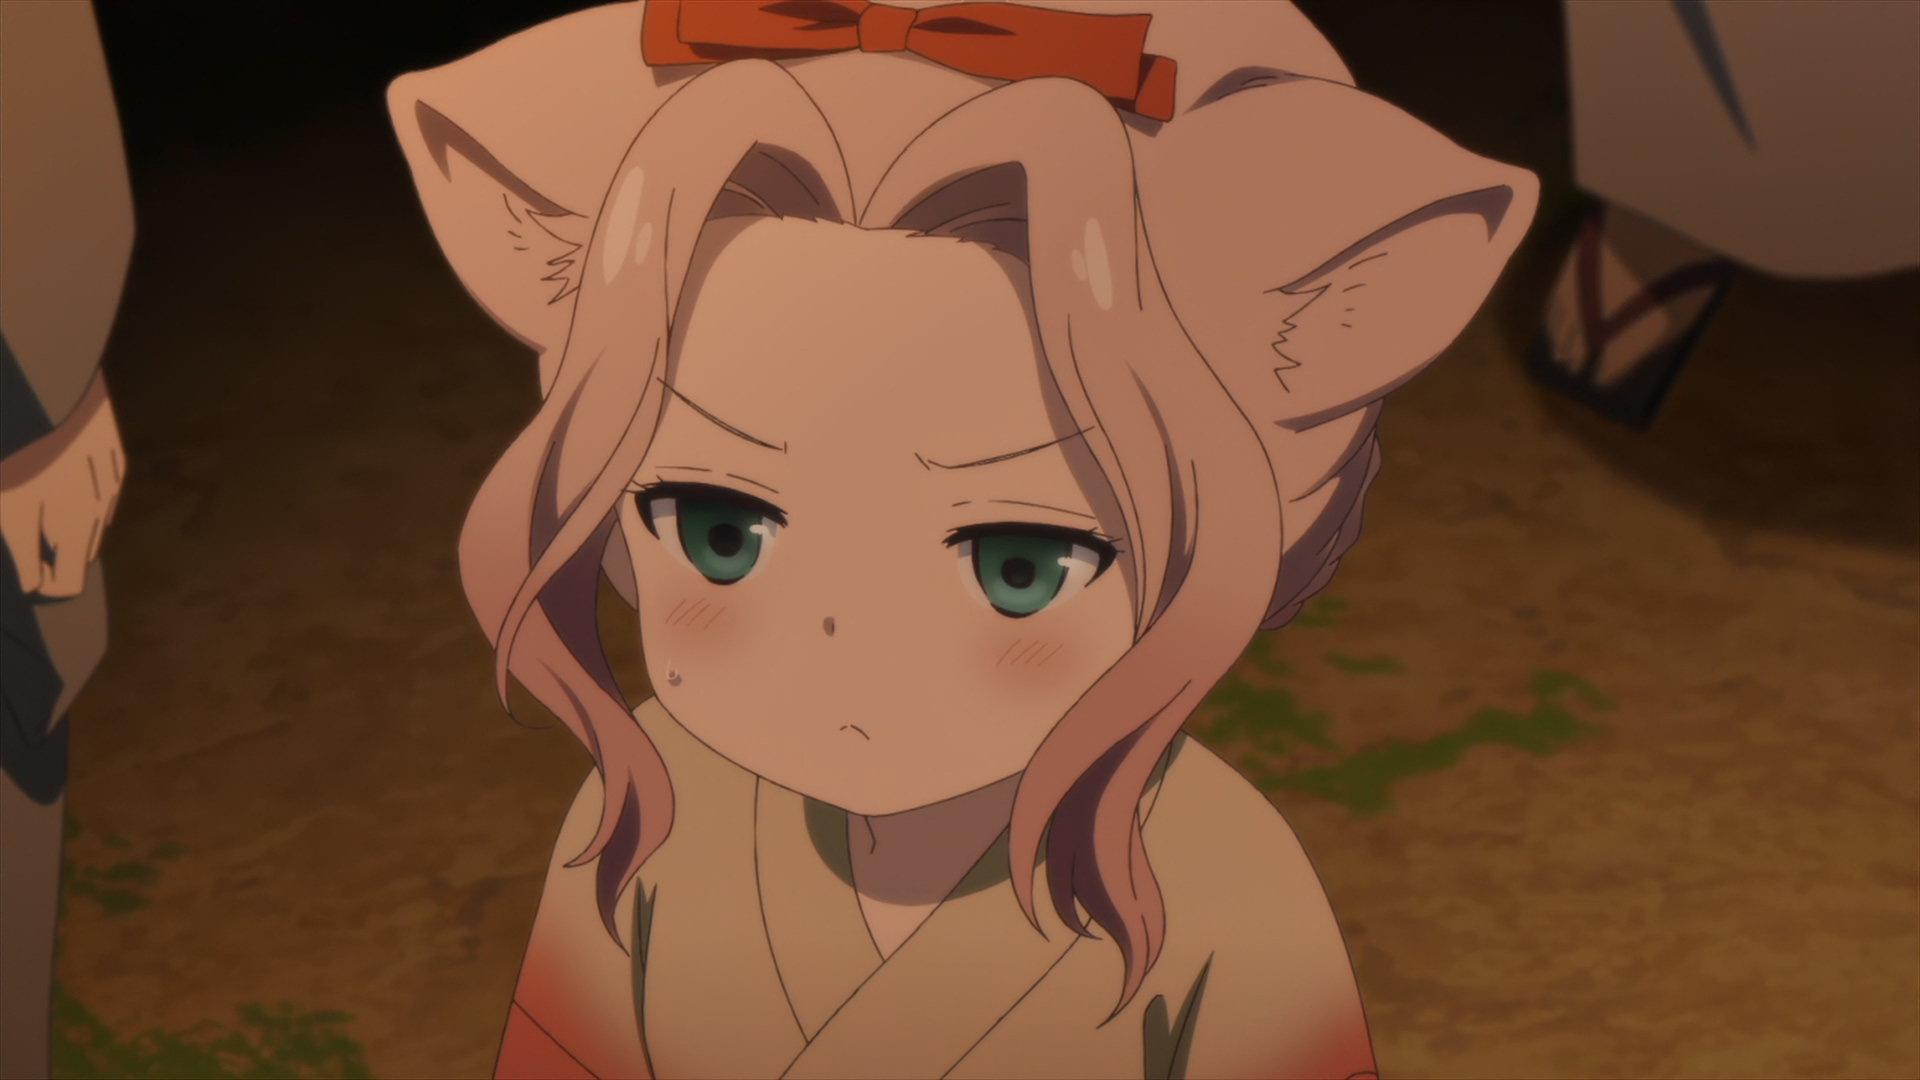其他: (1513, 1, 1920, 419), (1, 1, 133, 1080)
莲: (385, 1, 1538, 1080)
